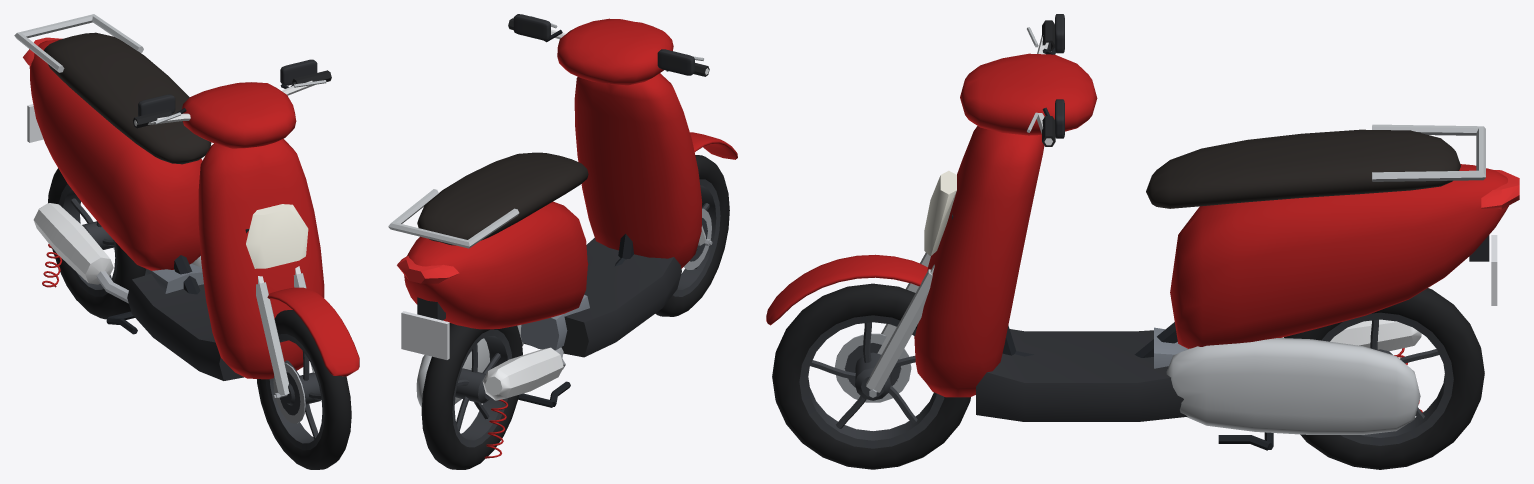
Rendered from motorbike.glb.
The picture shows the model from 3 angles, left to right: view 1: azimuth 30°, elevation 25°; view 2: azimuth 150°, elevation 25°; view 3: azimuth 270°, elevation 25°; orthographic projection. The views are drawn at different scales.
Parts seen in each view (by area): view 1: traveler_motorbike_parked, fork, seat, front_wheel, engine, rear_wheel, stand; view 2: traveler_motorbike_parked, rear_wheel, fork, seat, engine, front_wheel, stand; view 3: traveler_motorbike_parked, engine, front_wheel, seat, fork, rear_wheel.
Part boxes in pixels (left/top/right/bottom): traveler_motorbike_parked: left=14, top=14, right=324, bottom=380; fork: left=133, top=59, right=359, bottom=399; seat: left=44, top=32, right=211, bottom=164; front_wheel: left=257, top=310, right=351, bottom=469; engine: left=33, top=203, right=203, bottom=303; rear_wheel: left=48, top=168, right=145, bottom=319; stand: left=106, top=311, right=137, bottom=334; traveler_motorbike_parked: left=388, top=73, right=702, bottom=359; rear_wheel: left=421, top=323, right=522, bottom=469; fork: left=508, top=14, right=737, bottom=245; seat: left=417, top=152, right=588, bottom=245; engine: left=416, top=295, right=589, bottom=458; front_wheel: left=655, top=155, right=729, bottom=316; stand: left=518, top=381, right=570, bottom=407; traveler_motorbike_parked: left=914, top=124, right=1519, bottom=421; engine: left=1154, top=319, right=1422, bottom=434; front_wheel: left=772, top=283, right=970, bottom=469; seat: left=1146, top=129, right=1460, bottom=208; fork: left=766, top=14, right=1097, bottom=397; rear_wheel: left=1284, top=288, right=1484, bottom=469.
Size of the model in its own units: 0.6827 by 1.1 by 1.86.
